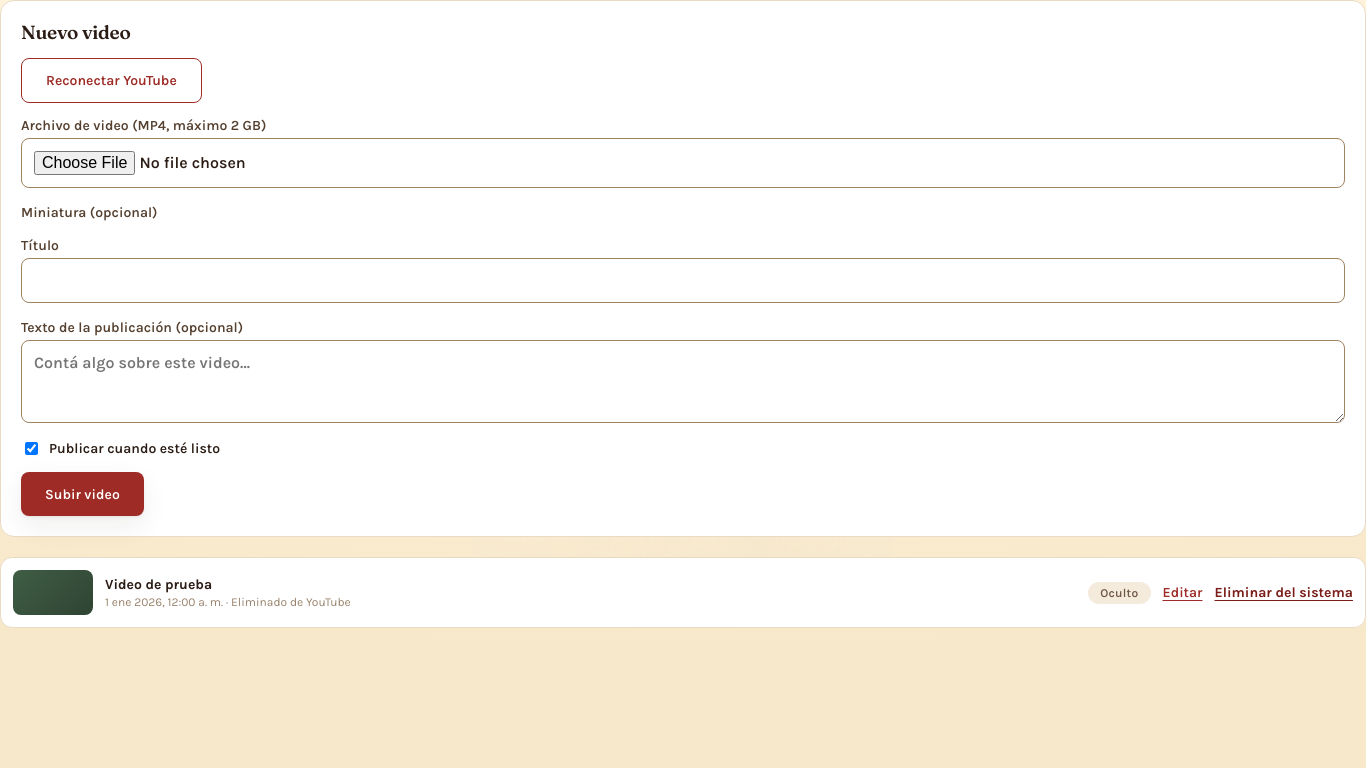
VideoManager eliminacion de videos › explica por que no se pudo eliminar el registro local
Click the button "Eliminar del sistema": (1284, 593) [1214, 584, 1353, 601]
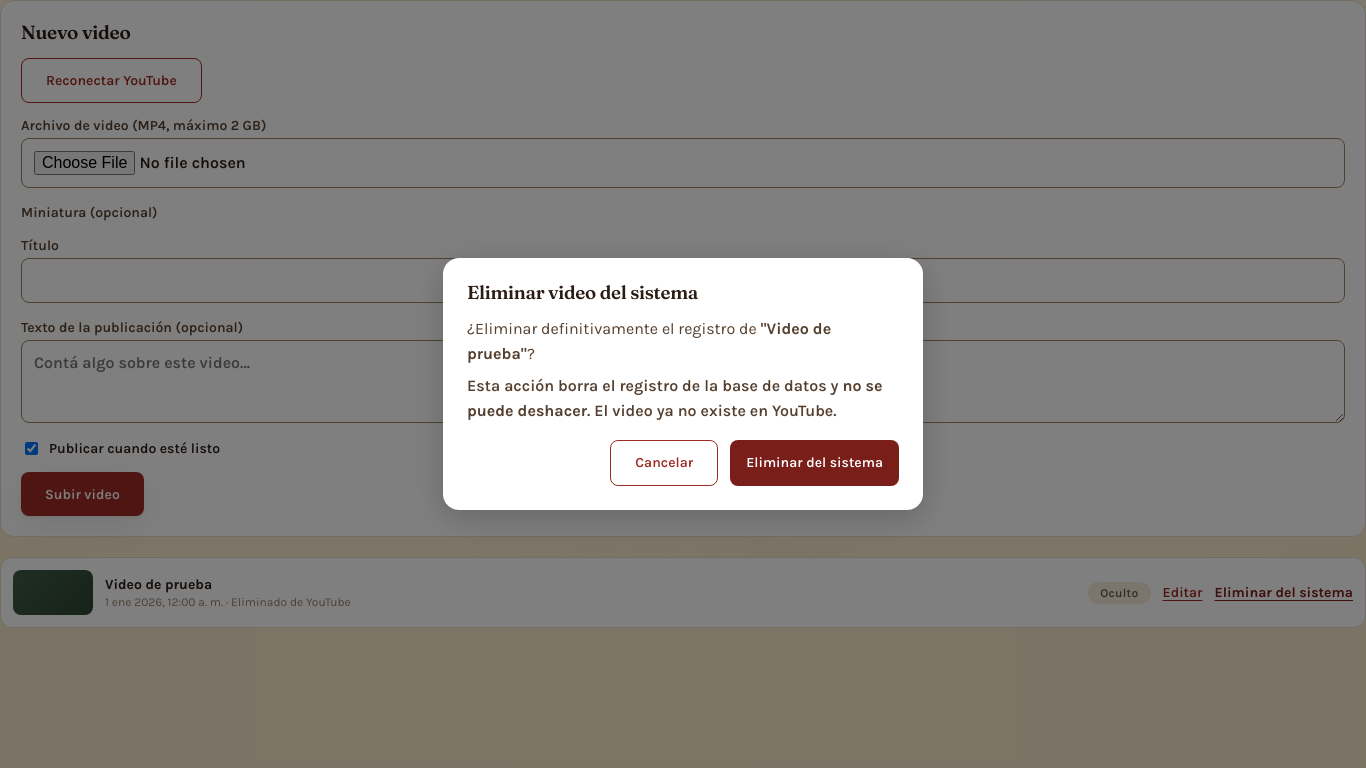
Click the button "Eliminar del sistema": (815, 463) [730, 440, 899, 486]
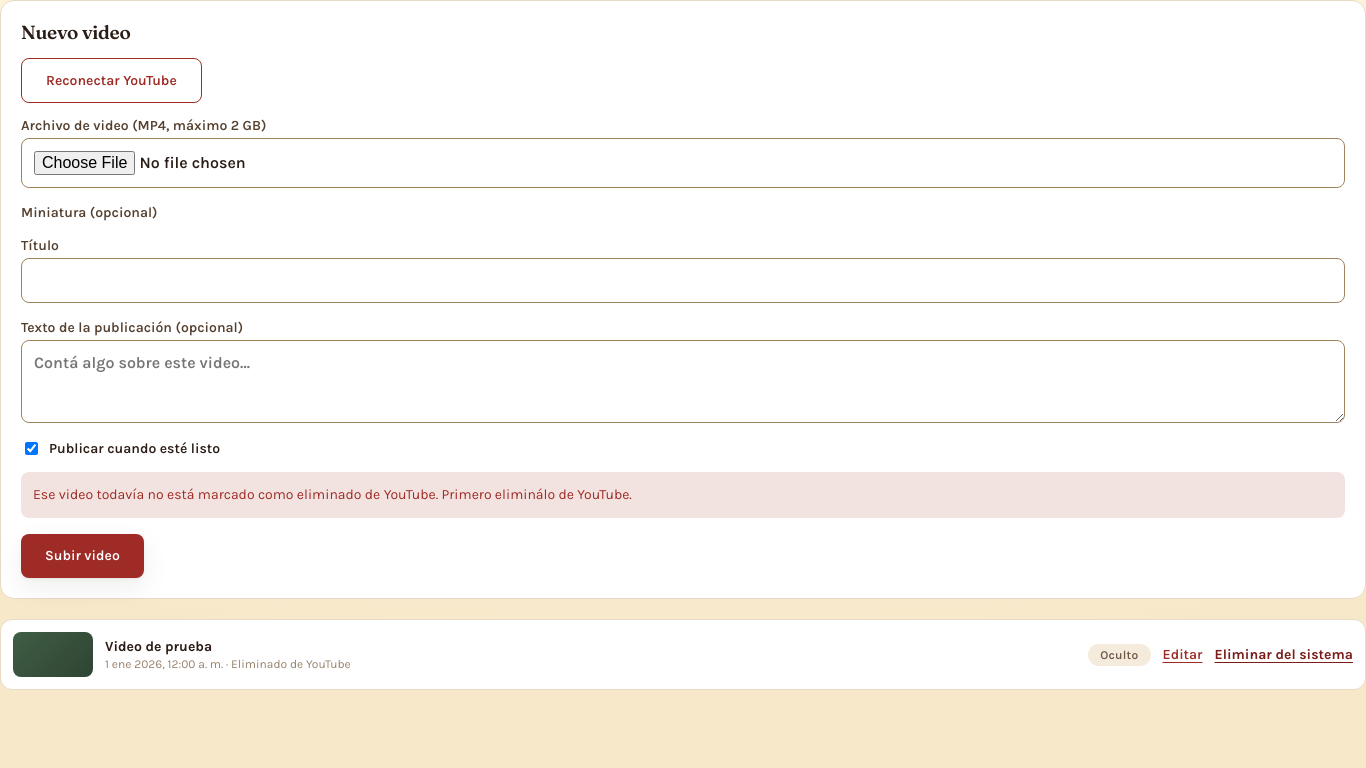
Expected: the text "todavía no está marcado como eliminado de YouTube" is shown, [33, 486, 632, 503]
